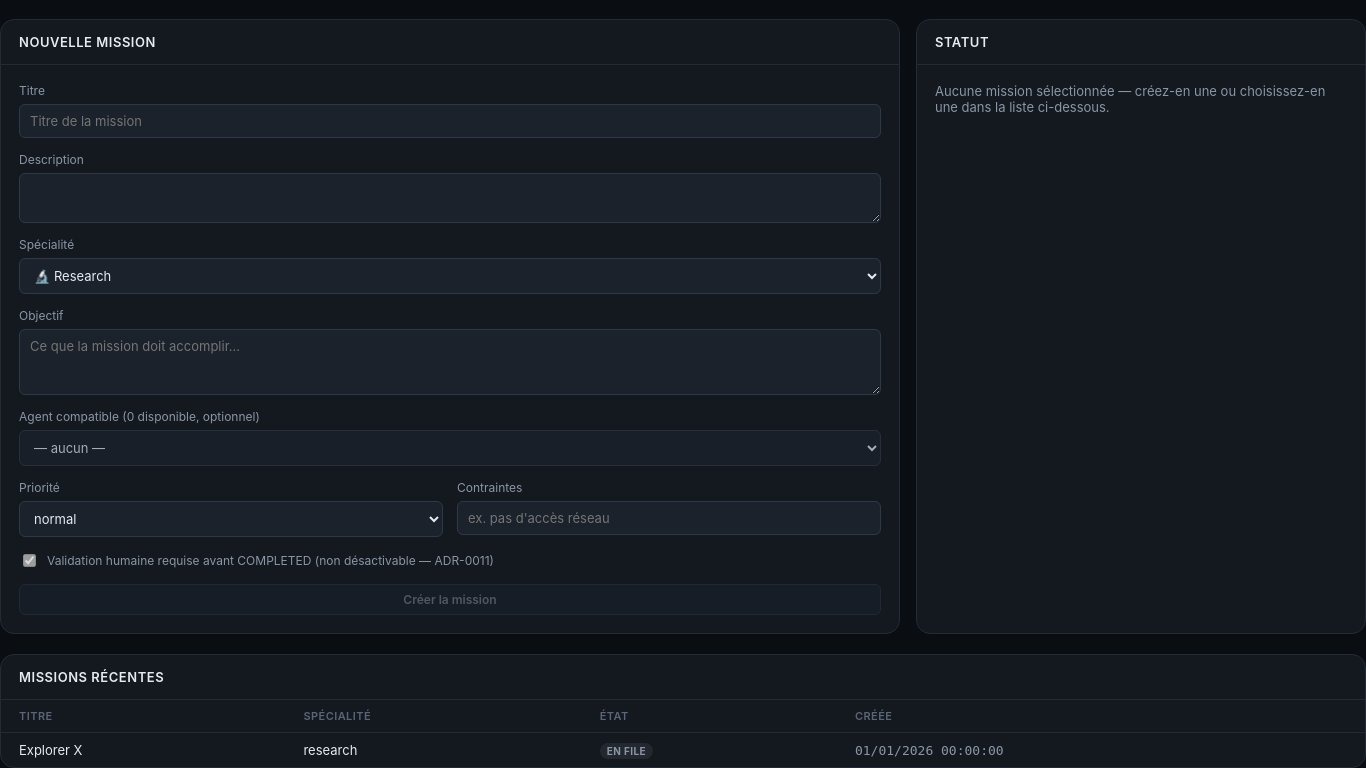
Scenario: MissionCenterPage › never activates validate/reject unless the selected mission is really in REVIEW
This screenshot has width=1366, height=768.
(page scrolled)
Click the text "Explorer X".
click(51, 750)  # box [1, 732, 285, 767]
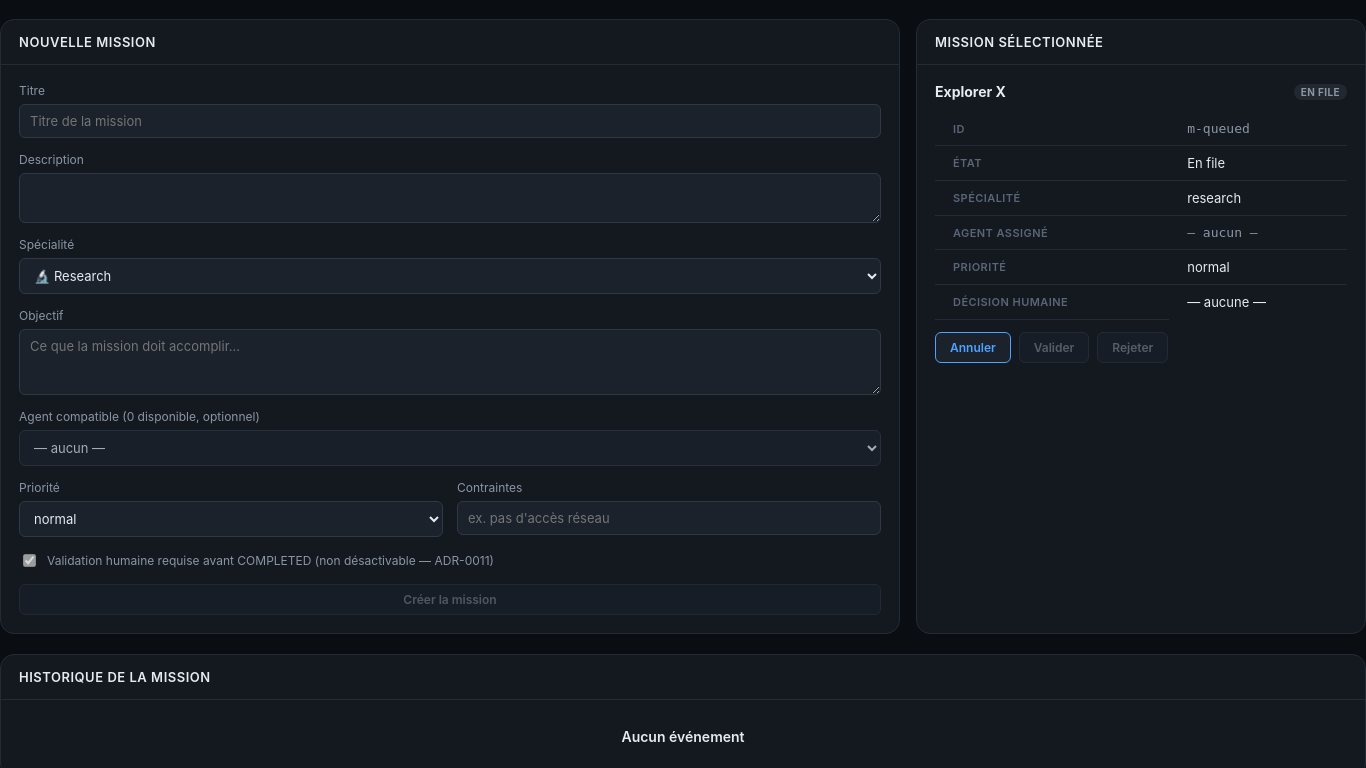
Expected: the button "Valider" is disabled, [1019, 332, 1089, 362]
Expected: the button "Rejeter" is disabled, [1097, 332, 1168, 362]
